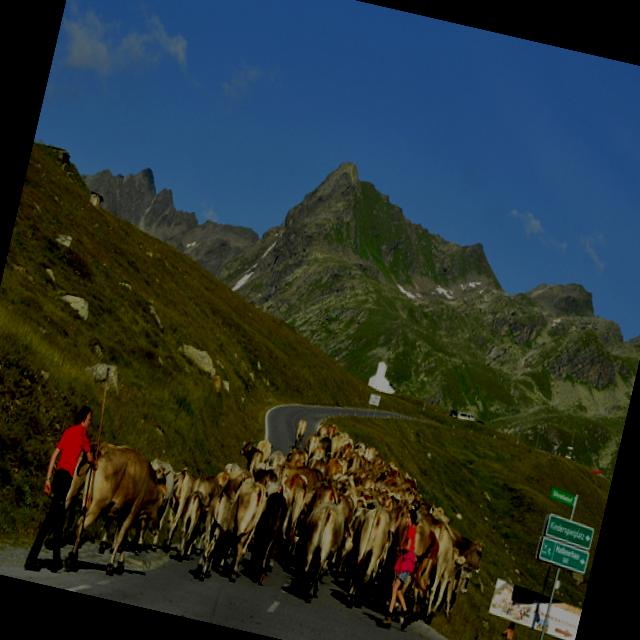Vehicle: (456, 411, 476, 424), (456, 410, 468, 420), (448, 410, 458, 418)
